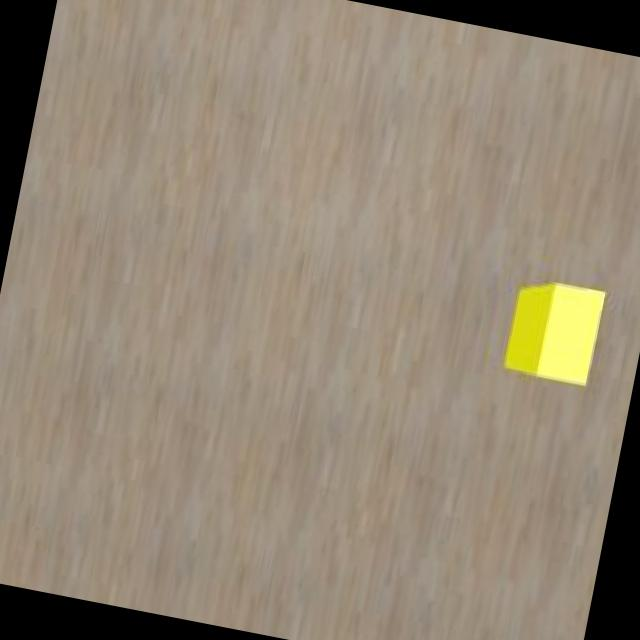cube-cAb5: (500, 270, 607, 386)
